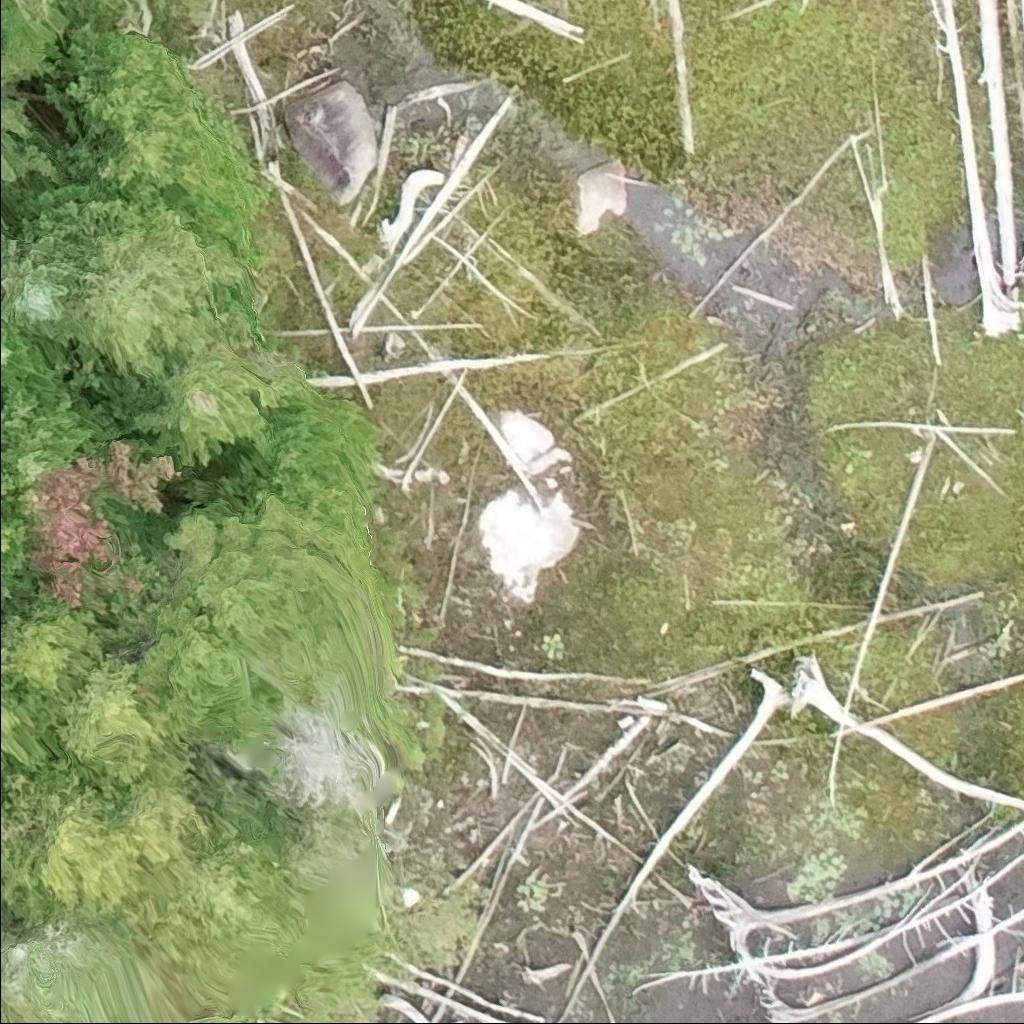crown: (135, 489, 363, 743), (43, 21, 266, 223), (71, 182, 250, 383), (15, 438, 181, 618), (0, 749, 148, 924), (138, 349, 289, 465), (53, 650, 166, 795), (0, 182, 92, 350), (0, 594, 106, 704), (119, 760, 214, 866), (0, 49, 61, 191), (0, 323, 55, 389), (68, 0, 118, 12)
